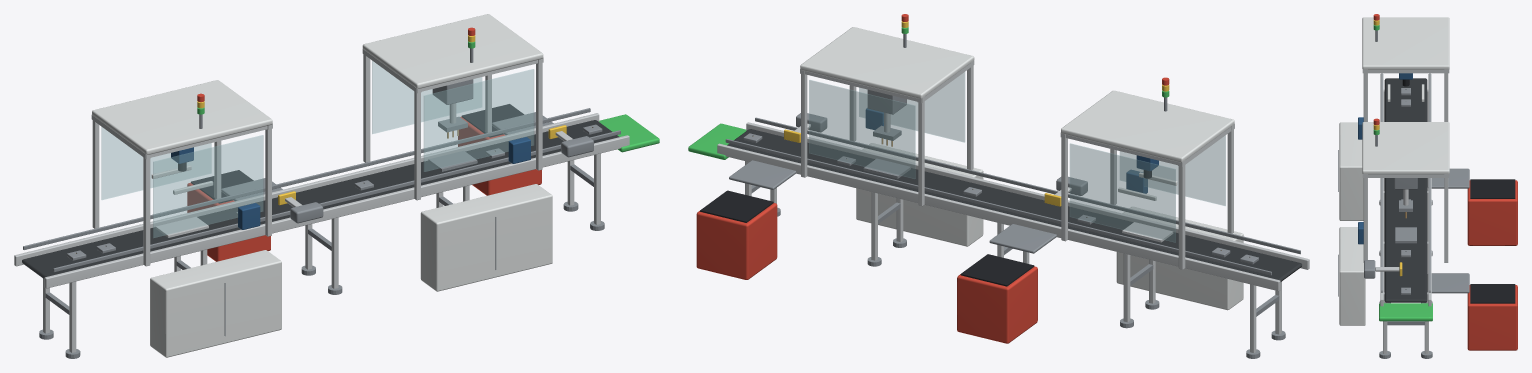
The model's file is mosfet_inspection_line_v1.fbx.
3 views of the same model, side by side, from view 1: azimuth 30°, elevation 25°; view 2: azimuth 150°, elevation 25°; view 3: azimuth 270°, elevation 25° (orthographic). The views are drawn at different scales.
Visible parts, largest first — view 1: Service_cabinet.001, Service_cabinet, Left_guard_glass, Left_guard_glass.001, Continuous_belt, Machine_roof, Machine_roof.001, Side_extrusion, Side_extrusion.001, Right_guard_glass, Right_guard_glass.001, Upper_guide.001 (+23 smaller); view 2: Continuous_belt, Right_guard_glass.001, Right_guard_glass, Machine_roof.001, Machine_roof, Side_extrusion.001, NG_bin_body.001, NG_bin_body, Service_cabinet, Service_cabinet.001, Side_extrusion, Left_guard_glass (+18 smaller); view 3: Continuous_belt, Machine_roof, Machine_roof.001, NG_bin_body.001, NG_bin_body, Service_cabinet.001, Service_cabinet, OK_output_tray, NG_bin_opening, NG_bin_opening.001, Reject_chute.001, Side_extrusion.001 (+16 smaller).
Boxes of the visible parts, left/top/right/bottom form: Service_cabinet.001: left=420, top=184, right=552, bottom=291; Service_cabinet: left=150, top=250, right=281, bottom=357; Left_guard_glass: left=153, top=135, right=263, bottom=237; Left_guard_glass.001: left=424, top=69, right=533, bottom=171; Continuous_belt: left=22, top=120, right=619, bottom=278; Machine_roof: left=92, top=80, right=272, bottom=154; Machine_roof.001: left=362, top=14, right=543, bottom=88; Side_extrusion: left=44, top=135, right=629, bottom=288; Side_extrusion.001: left=14, top=113, right=599, bottom=266; Right_guard_glass: left=101, top=127, right=211, bottom=199; Right_guard_glass.001: left=372, top=61, right=481, bottom=133; Upper_guide.001: left=23, top=108, right=590, bottom=249; Continuous_belt: left=727, top=129, right=1301, bottom=281; Right_guard_glass.001: left=809, top=80, right=915, bottom=178; Right_guard_glass: left=1070, top=143, right=1175, bottom=242; Machine_roof.001: left=800, top=27, right=974, bottom=98; Machine_roof: left=1061, top=90, right=1234, bottom=162; Side_extrusion.001: left=717, top=143, right=1280, bottom=291; NG_bin_body.001: left=696, top=203, right=777, bottom=279; NG_bin_body: left=957, top=266, right=1037, bottom=343; Service_cabinet: left=1116, top=206, right=1243, bottom=310; Service_cabinet.001: left=856, top=143, right=983, bottom=246; Side_extrusion: left=746, top=122, right=1309, bottom=269; Left_guard_glass: left=1120, top=135, right=1225, bottom=205; Continuous_belt: left=1384, top=78, right=1427, bottom=302; Machine_roof: left=1362, top=17, right=1449, bottom=69; Machine_roof.001: left=1362, top=122, right=1449, bottom=174; NG_bin_body.001: left=1467, top=285, right=1517, bottom=350; NG_bin_body: left=1467, top=180, right=1517, bottom=245; Service_cabinet.001: left=1339, top=227, right=1365, bottom=325; Service_cabinet: left=1339, top=122, right=1363, bottom=220; OK_output_tray: left=1379, top=303, right=1432, bottom=321; NG_bin_opening: left=1470, top=179, right=1515, bottom=198; NG_bin_opening.001: left=1470, top=284, right=1515, bottom=303; Reject_chute.001: left=1427, top=273, right=1469, bottom=293; Side_extrusion.001: left=1428, top=74, right=1431, bottom=306.
Size of the model in its own units: 725 by 265 by 232.
